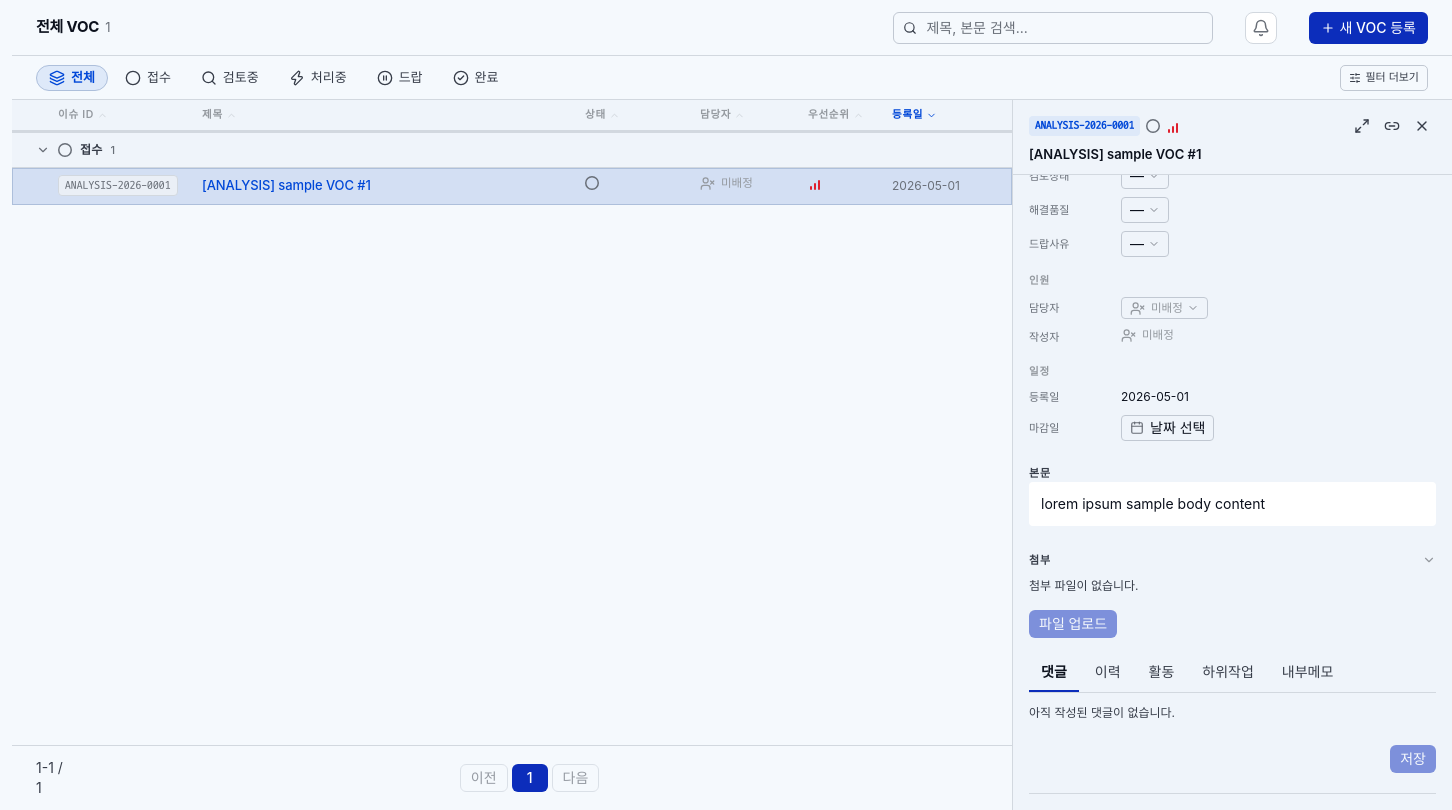
Test: VocListPage — Wave 1 RTL › F-T4b manager role contrast: 같은 vocId에서 note form은 노출 (gate 조건이 user 전용임을 증명)
(page scrolled)
expect the element with test id "voc-drawer" is shown: met, box [1013, 100, 1451, 809]
Click the tab "내부메모": [1308, 675] box [1270, 658, 1345, 692]
(page scrolled)
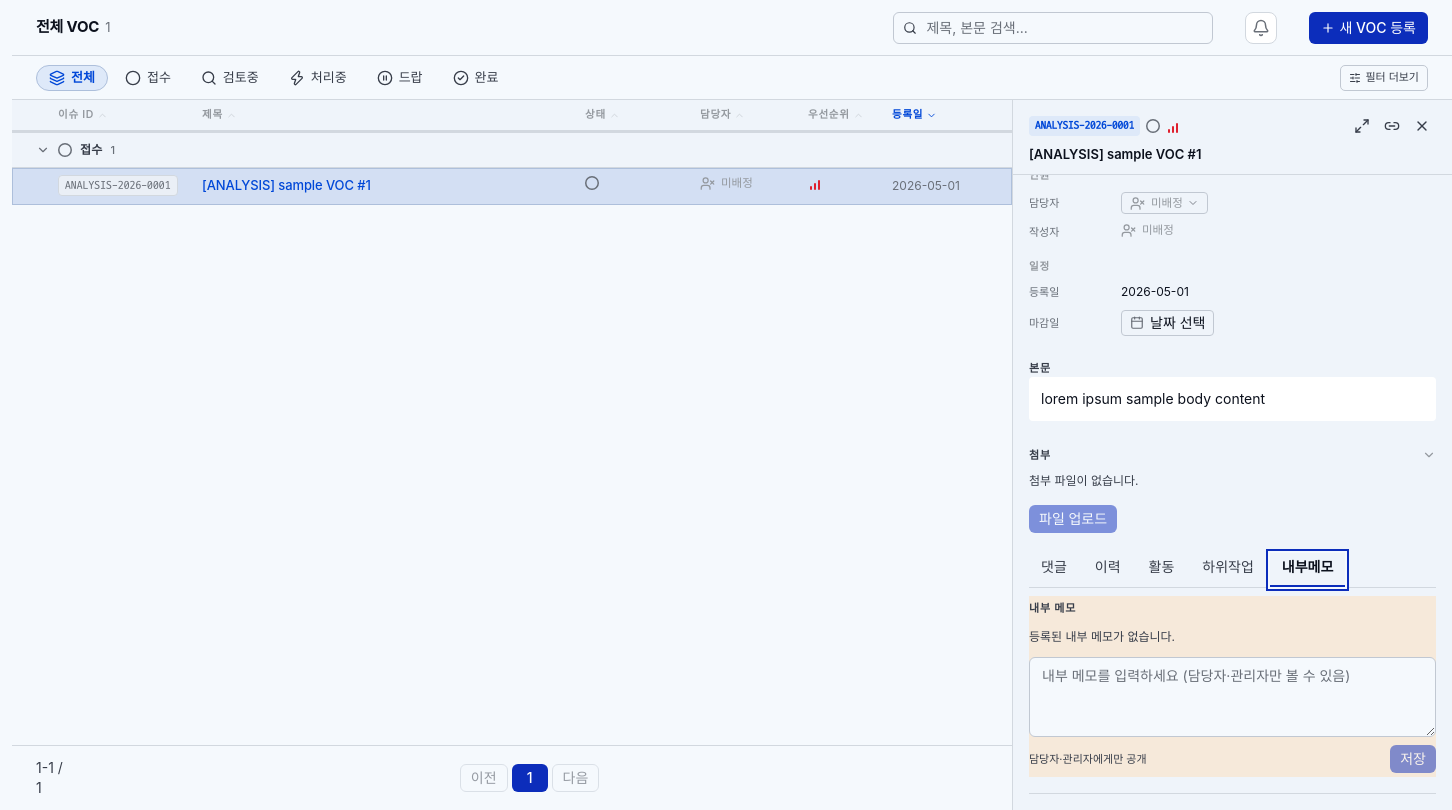
expect the text box named "new internal note" is shown: met, box [1029, 657, 1436, 737]
